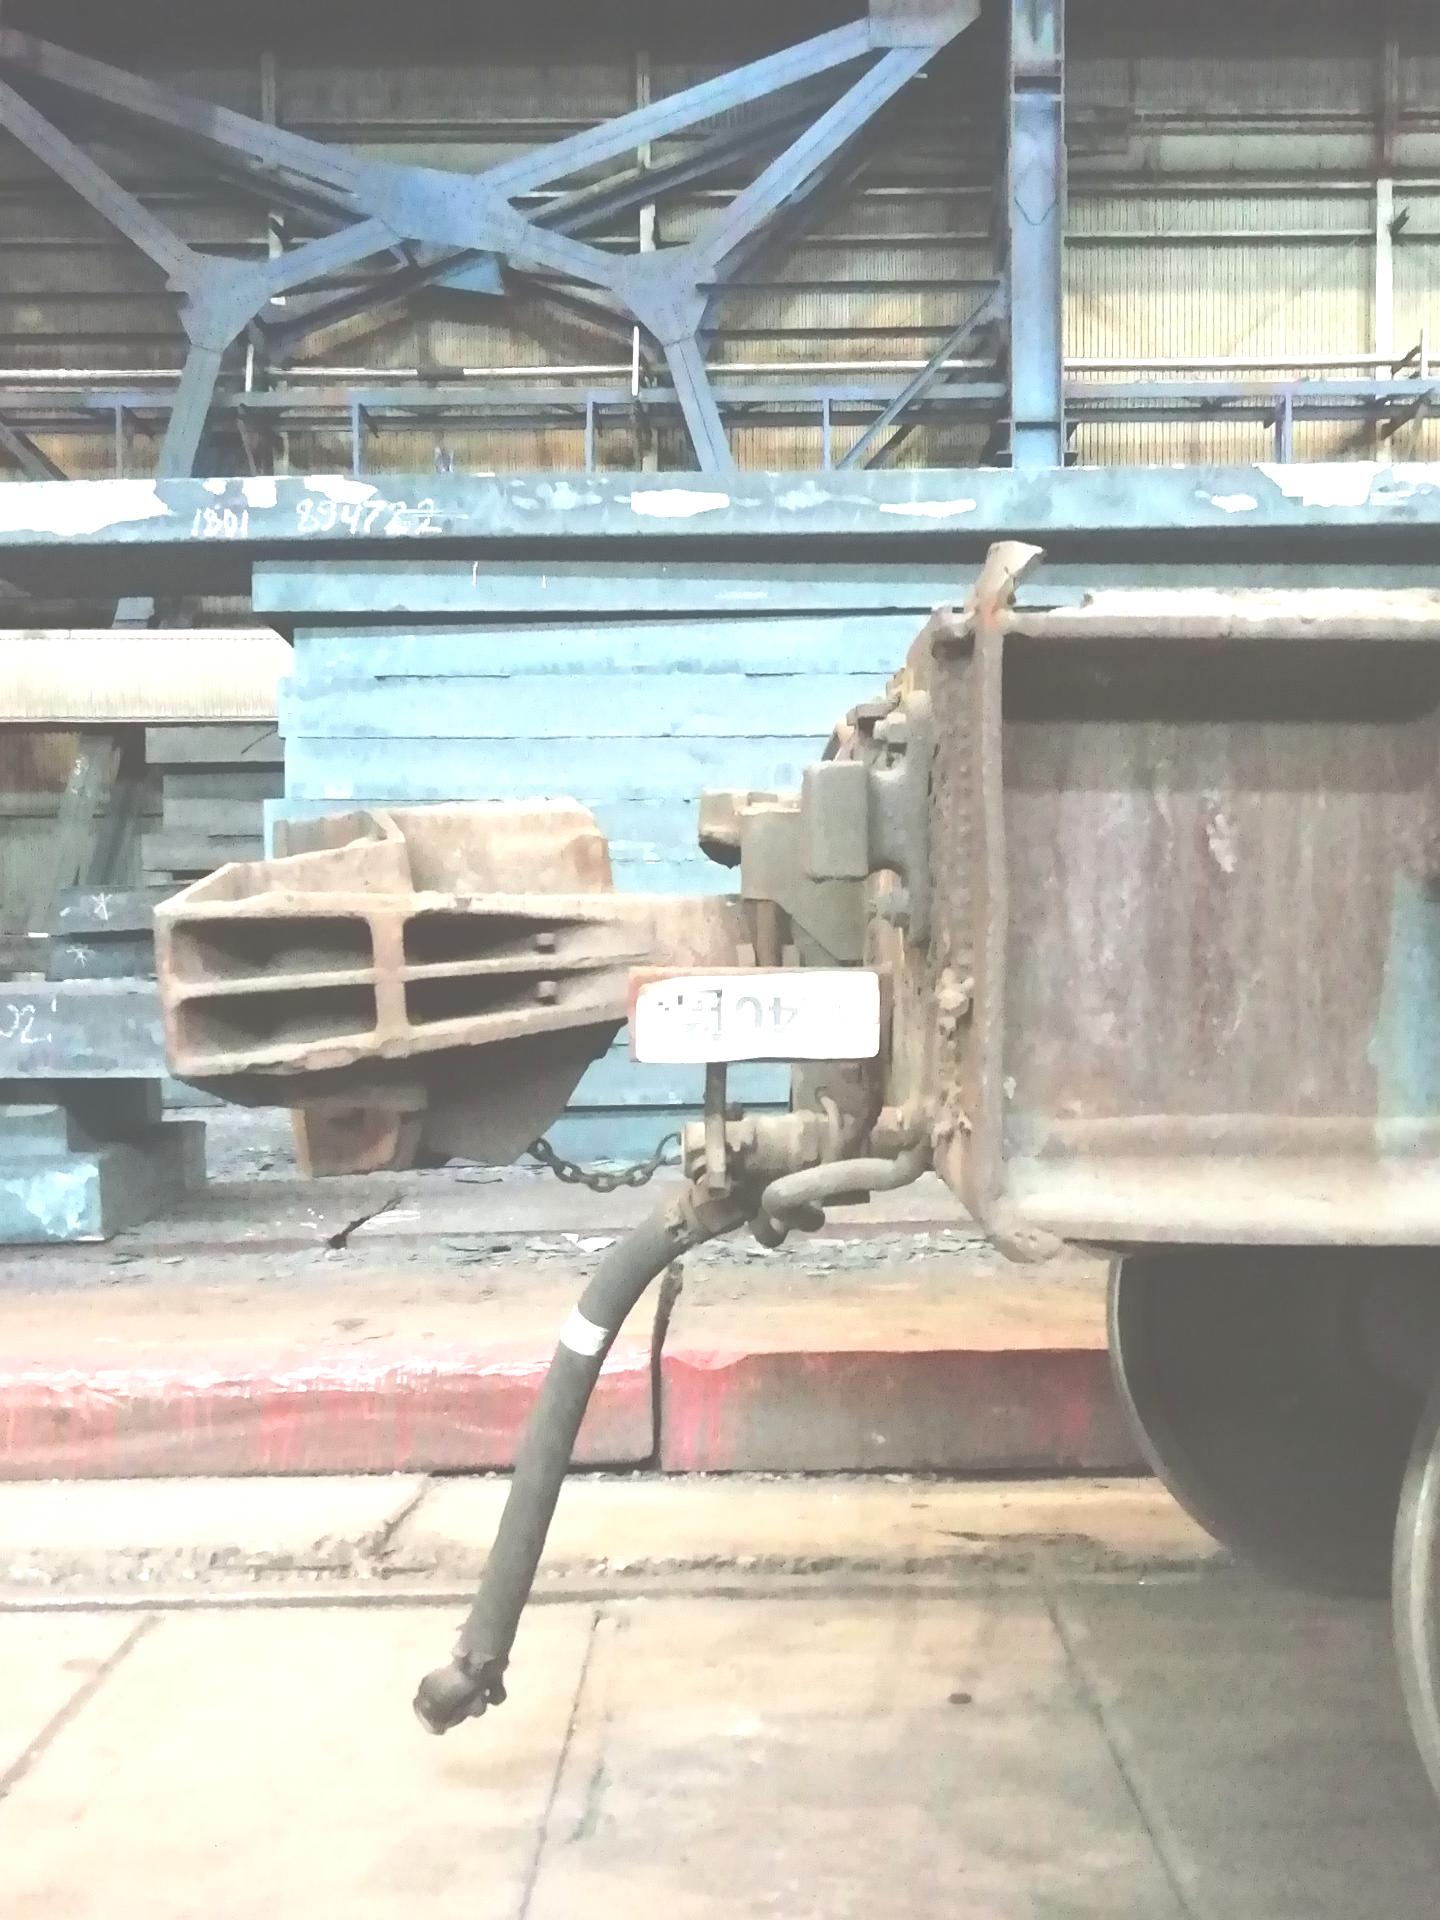data matrix: (629, 975, 729, 1070)
